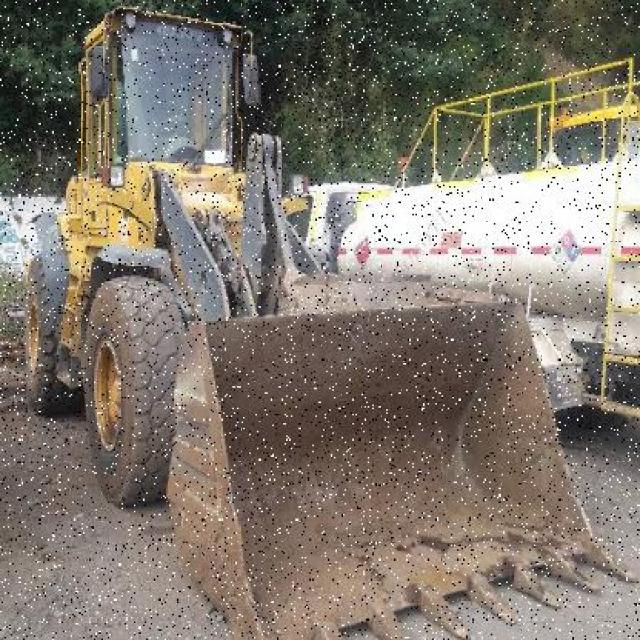buldozerpayloadergrader: (18, 14, 634, 640)
